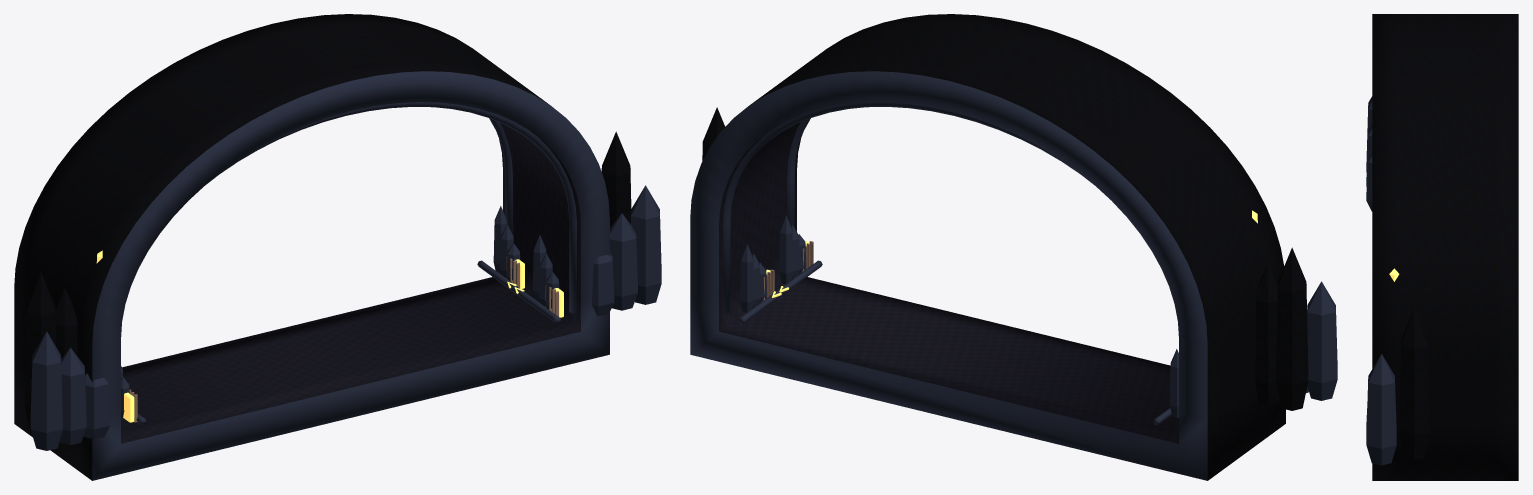
The model's file is portal_entry.glb.
3 renders of one model, left to right at view 1: azimuth 30°, elevation 25°; view 2: azimuth 150°, elevation 25°; view 3: azimuth 270°, elevation 25°, orthographic. The views are drawn at different scales.
Visible parts, largest first — view 1: TunnelGeometry; view 2: TunnelGeometry; view 3: TunnelGeometry.
Part boxes in pixels (x1,y1,x2,y2): TunnelGeometry: [14, 14, 661, 480]; TunnelGeometry: [690, 14, 1337, 480]; TunnelGeometry: [1366, 14, 1518, 480].
Size of the model in its own units: 18.66 by 9.52 by 4.17.
5 materials, 2 textured.
